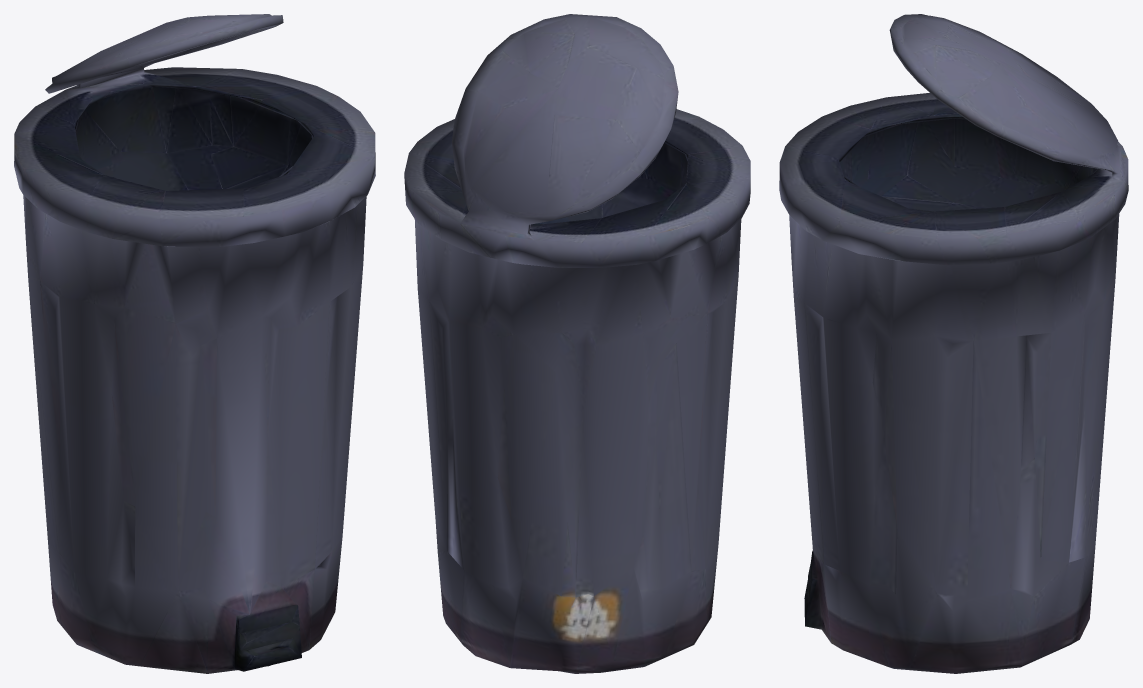
Rendered from trash-can.glb.
3 renders of one model, left to right at view 1: azimuth 30°, elevation 25°; view 2: azimuth 150°, elevation 25°; view 3: azimuth 270°, elevation 25°, orthographic. The views are drawn at different scales.
Bounding box in the file's own units: 1.03 × 1.91 × 1.03.
Materials: 1 (1 with a texture image).
